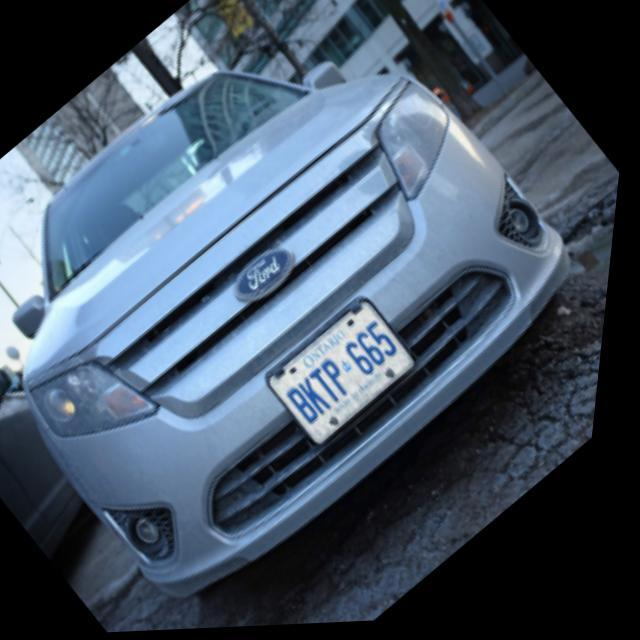license_plate: (270, 300, 429, 450)
